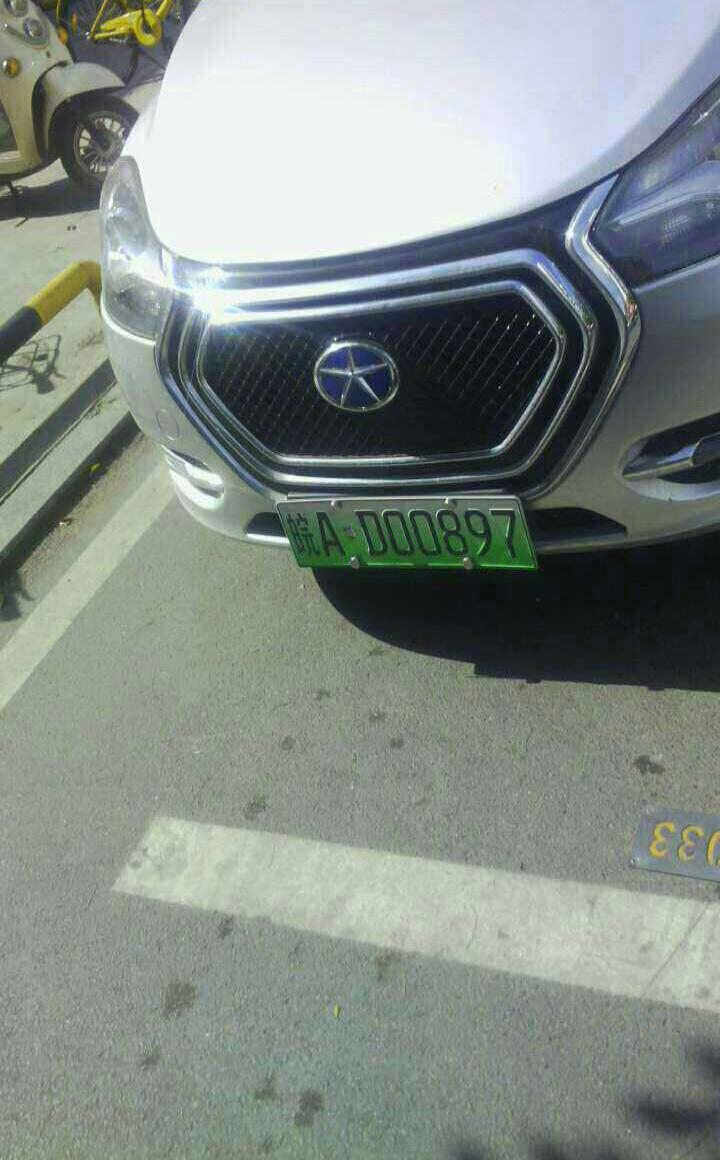car_id: (280, 495, 533, 570)
